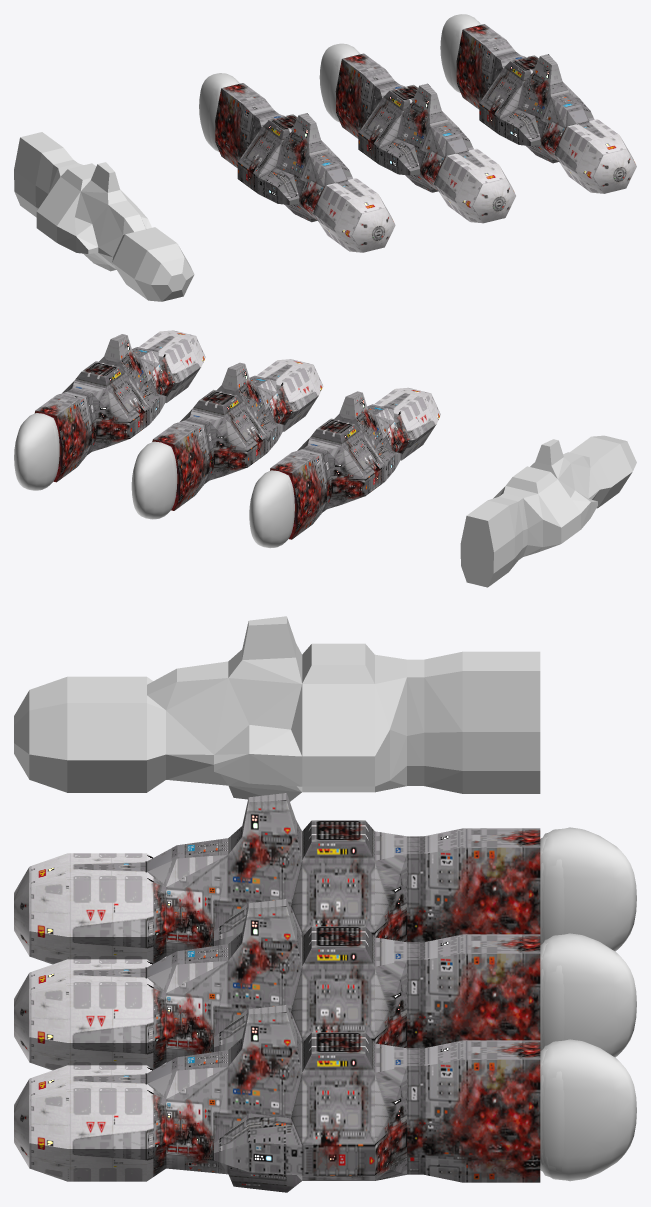
File: hgn_bst_dfgfrigate.dae
3 renders of one model, top to bottom at view 1: azimuth 30°, elevation 25°; view 2: azimuth 150°, elevation 25°; view 3: azimuth 270°, elevation 25°, orthographic. The views are drawn at different scales.
Visible parts, largest first — view 1: MULT[root_mesh]_LOD[0], MULT[root_mesh]_LOD[2], COL[Root], MULT[root_mesh]_LOD[1], GLOW[EngineGlow5_LOD0]_LOD[1], GLOW[EngineGlow8_LOD0]_LOD[2], GLOW[EngineGlow2_LOD0]_LOD[0]; view 2: COL[Root], MULT[root_mesh]_LOD[2], MULT[root_mesh]_LOD[0], MULT[root_mesh]_LOD[1], GLOW[EngineGlow5_LOD0]_LOD[1], GLOW[EngineGlow2_LOD0]_LOD[0], GLOW[EngineGlow8_LOD0]_LOD[2]; view 3: MULT[root_mesh]_LOD[2], COL[Root], MULT[root_mesh]_LOD[1], MULT[root_mesh]_LOD[0], GLOW[EngineGlow8_LOD0]_LOD[2], GLOW[EngineGlow2_LOD0]_LOD[0], GLOW[EngineGlow5_LOD0]_LOD[1], GLOW[EngineGlow9_LOD0]_LOD[2], GLOW[EngineGlow6_LOD0]_LOD[1], GLOW[EngineGlow3_LOD0]_LOD[0].
Part boxes in pixels (bbox=[...]): MULT[root_mesh]_LOD[0]: bbox=[215, 83, 395, 252]; MULT[root_mesh]_LOD[2]: bbox=[456, 24, 636, 193]; COL[Root]: bbox=[14, 132, 194, 301]; MULT[root_mesh]_LOD[1]: bbox=[335, 53, 515, 223]; GLOW[EngineGlow5_LOD0]_LOD[1]: bbox=[319, 43, 360, 122]; GLOW[EngineGlow8_LOD0]_LOD[2]: bbox=[440, 14, 480, 92]; GLOW[EngineGlow2_LOD0]_LOD[0]: bbox=[199, 73, 239, 151]; COL[Root]: bbox=[460, 435, 636, 587]; MULT[root_mesh]_LOD[2]: bbox=[35, 330, 205, 482]; MULT[root_mesh]_LOD[0]: bbox=[270, 387, 440, 539]; MULT[root_mesh]_LOD[1]: bbox=[152, 359, 323, 510]; GLOW[EngineGlow5_LOD0]_LOD[1]: bbox=[131, 441, 175, 519]; GLOW[EngineGlow2_LOD0]_LOD[0]: bbox=[249, 470, 292, 548]; GLOW[EngineGlow8_LOD0]_LOD[2]: bbox=[14, 413, 57, 490]; MULT[root_mesh]_LOD[2]: bbox=[14, 1005, 540, 1192]; COL[Root]: bbox=[14, 616, 540, 801]; MULT[root_mesh]_LOD[1]: bbox=[14, 899, 540, 1070]; MULT[root_mesh]_LOD[0]: bbox=[14, 793, 540, 964]; GLOW[EngineGlow8_LOD0]_LOD[2]: bbox=[540, 1039, 636, 1181]; GLOW[EngineGlow2_LOD0]_LOD[0]: bbox=[540, 827, 636, 951]; GLOW[EngineGlow5_LOD0]_LOD[1]: bbox=[540, 933, 636, 1057]; GLOW[EngineGlow9_LOD0]_LOD[2]: bbox=[543, 1069, 564, 1172]; GLOW[EngineGlow6_LOD0]_LOD[1]: bbox=[543, 963, 564, 1046]; GLOW[EngineGlow3_LOD0]_LOD[0]: bbox=[543, 857, 564, 940].
Size of the model in its own units: 286 by 51.38 by 164.
17 materials, 16 textured.
